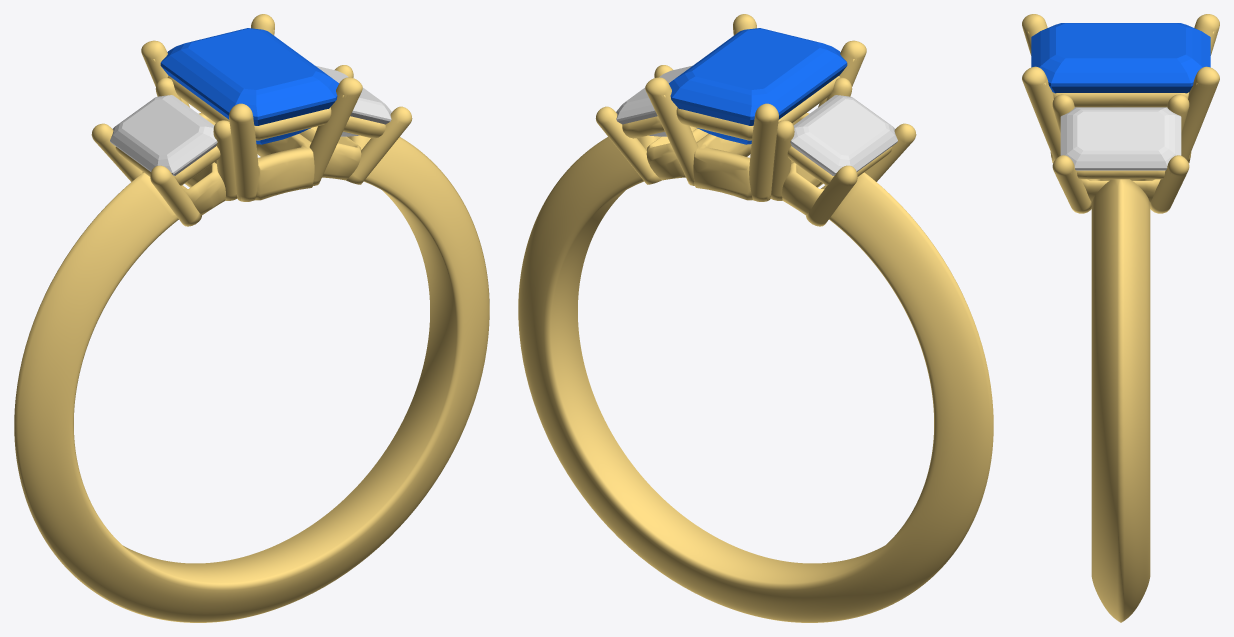
Rendered from bluesapphire-emerald-yellowgold-4prong-knifeedge-3stone.glb.
3 renders of one model, left to right at view 1: azimuth 30°, elevation 25°; view 2: azimuth 150°, elevation 25°; view 3: azimuth 270°, elevation 25°, orthographic.
Visible parts, largest first — view 1: metal, stone, side, side.007; view 2: metal, stone, side, side.007; view 3: metal, stone, side.007.
Part boxes in pixels (box(x1,y1,x2,y2)): metal: box(14, 14, 489, 622); stone: box(160, 28, 338, 144); side: box(110, 95, 217, 175); side.007: box(315, 65, 391, 136); metal: box(518, 14, 993, 622); stone: box(669, 28, 847, 144); side: box(790, 95, 897, 175); side.007: box(616, 65, 692, 136); metal: box(1022, 14, 1219, 622); stone: box(1031, 23, 1210, 93); side.007: box(1060, 107, 1181, 170).
Size of the model in its own units: 20.5 by 22.94 by 7.4.
